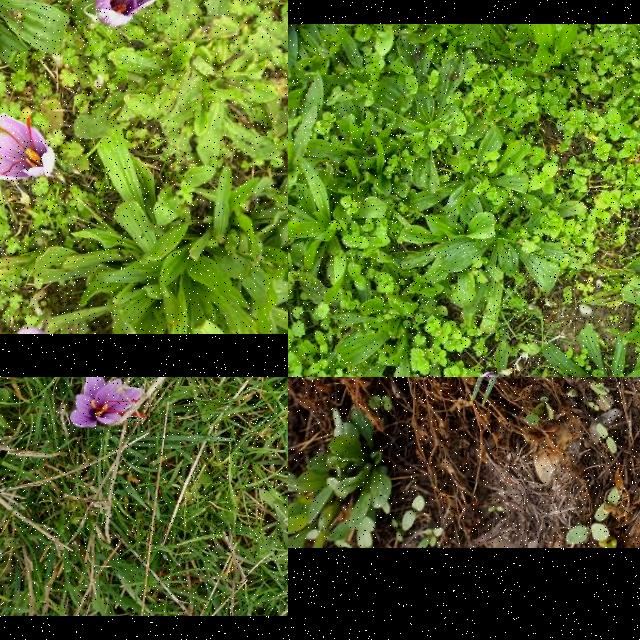flower: (70, 377, 146, 429), (0, 113, 56, 180), (95, 0, 168, 28), (478, 373, 499, 377)
